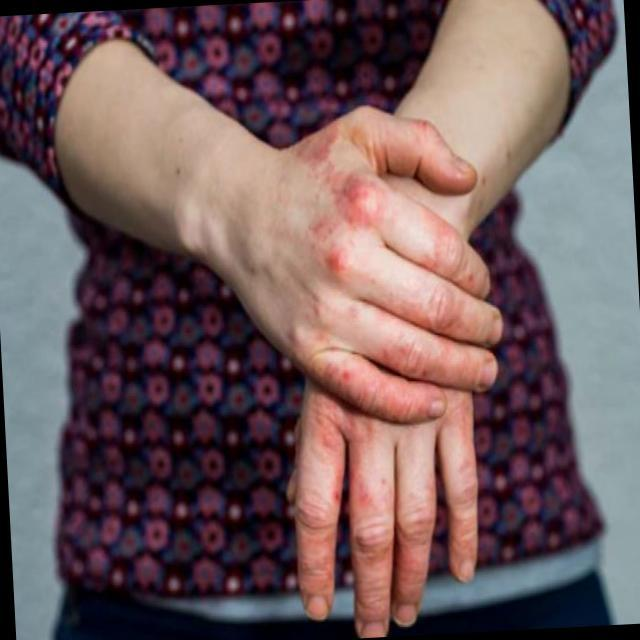Eczema: (293, 111, 466, 405), (275, 403, 483, 595)
